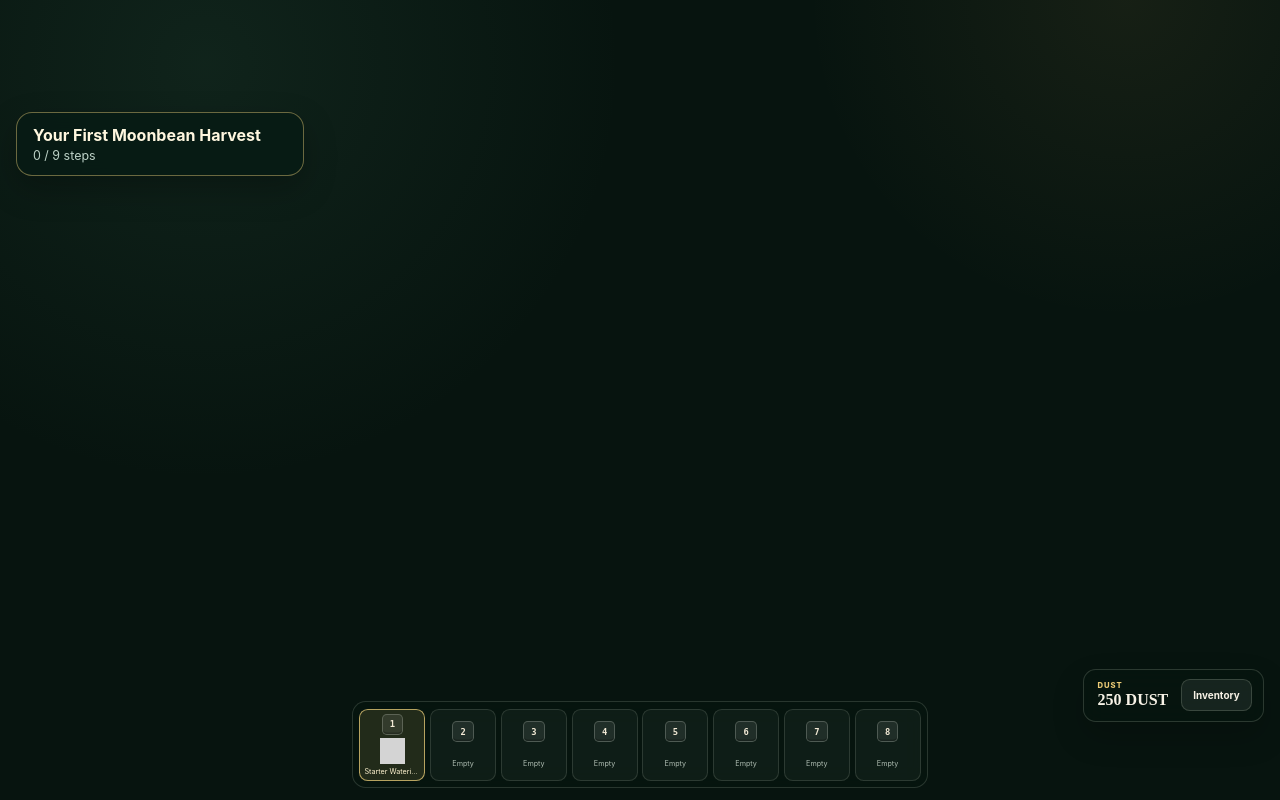
Scenario: CozyGameplay accessible HUD › explains quickbar Slot 2 with beginner-friendly inventory copy
Click the button "Inventory" at (1216, 695), box left=1181, top=679, right=1252, bottom=711
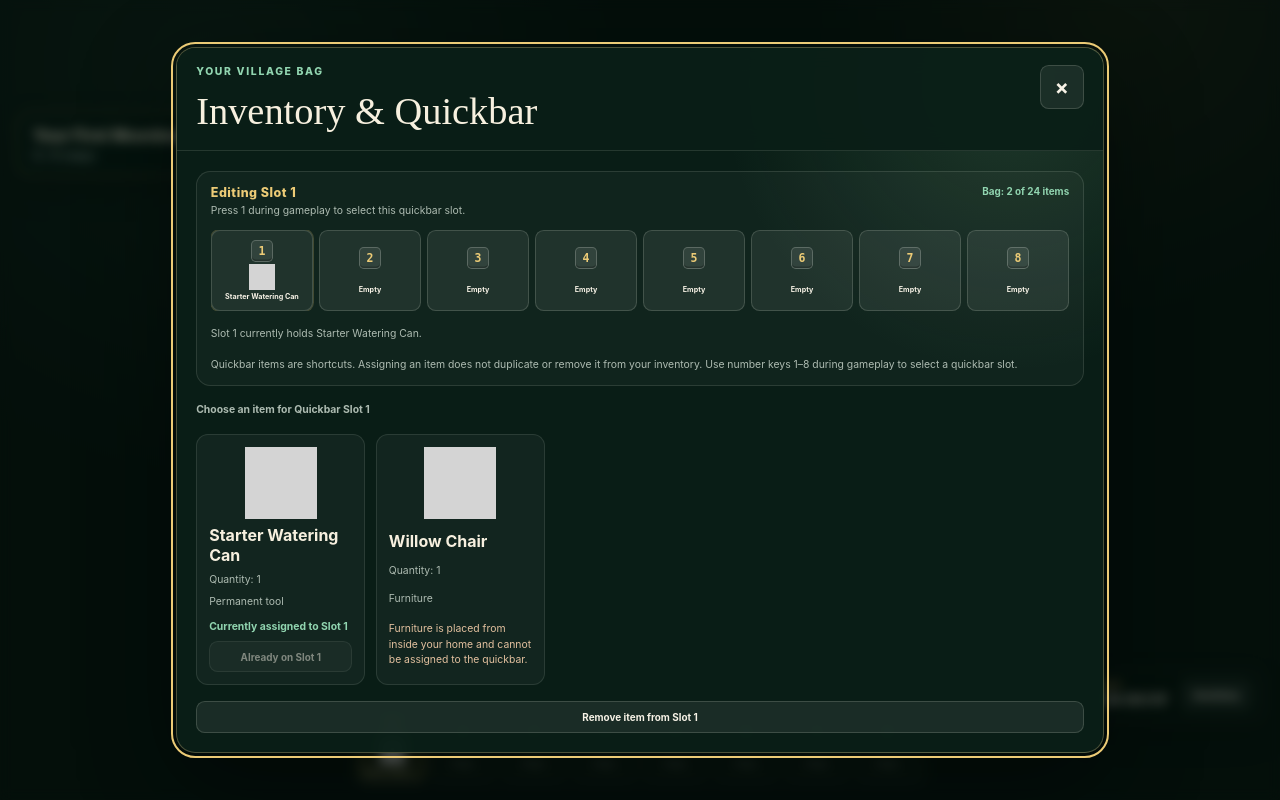
Check: the dialog is shown
Check: the dialog shows "Editing Slot 1"
Check: the dialog shows "Press 1 during gameplay"
Click the button "2 Empty" at (370, 271), box left=319, top=230, right=421, bottom=311
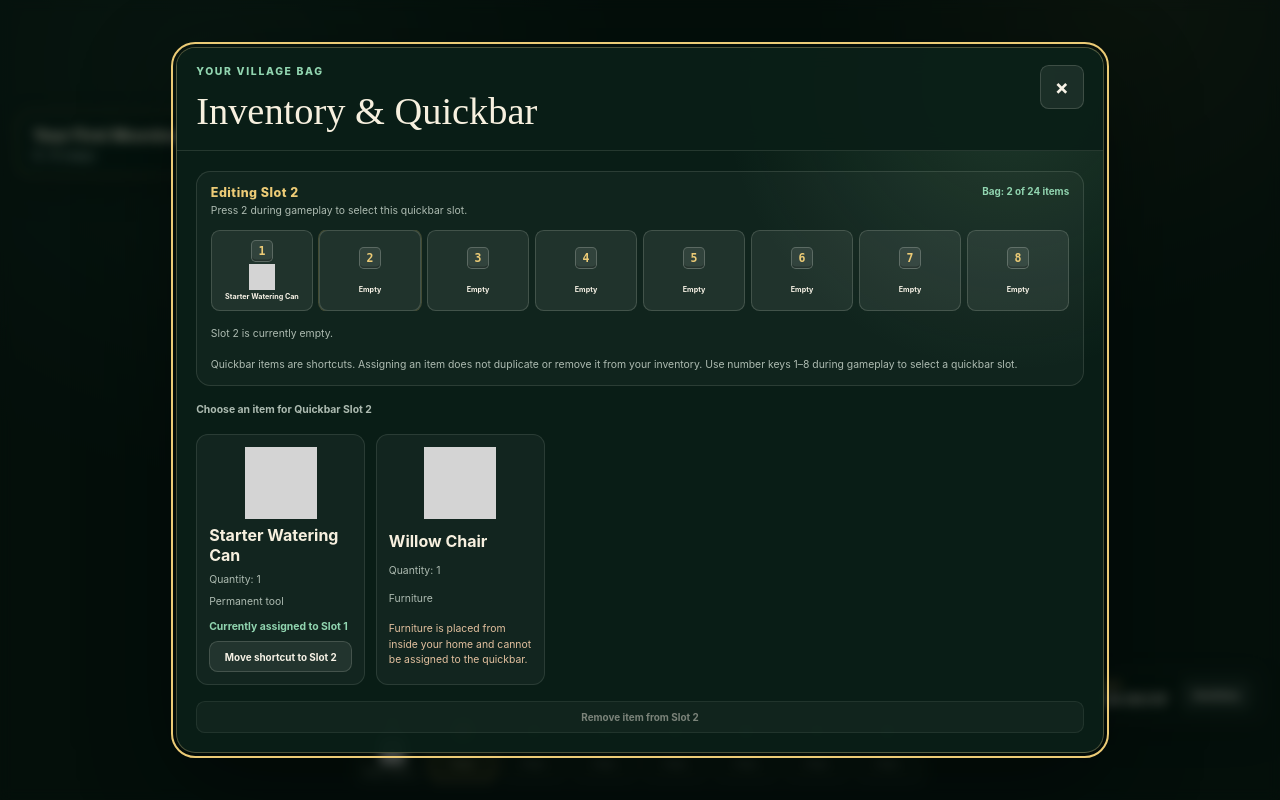
Check: the dialog shows "Editing Slot 2"
Check: the dialog shows "Press 2 during gameplay to select this quickbar slot."
Check: the dialog shows "Slot 2 is currently empty.", box left=211, top=327, right=333, bottom=340
Click the button "Move shortcut to Slot 2" at (281, 657), box left=209, top=641, right=352, bottom=672
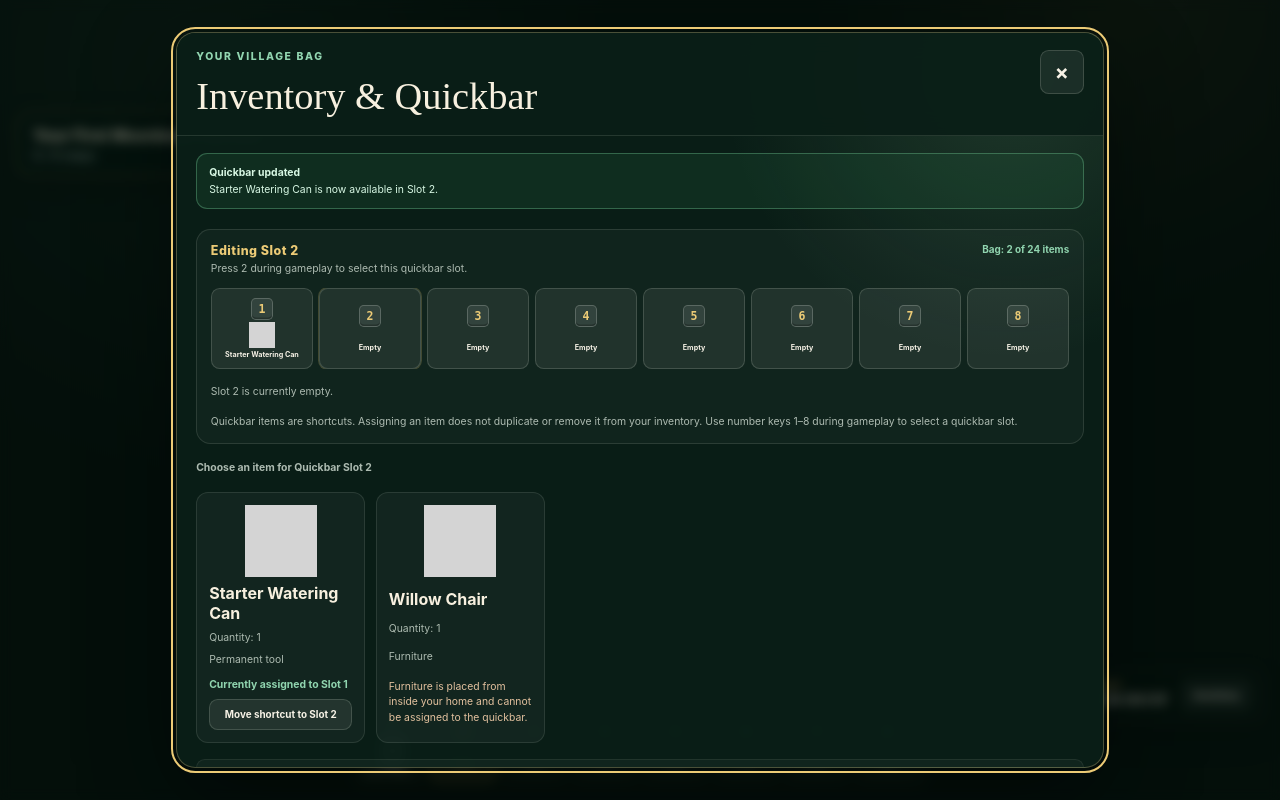
Check: the dialog is shown
Check: the dialog shows "Quickbar updated", box left=209, top=166, right=300, bottom=179
